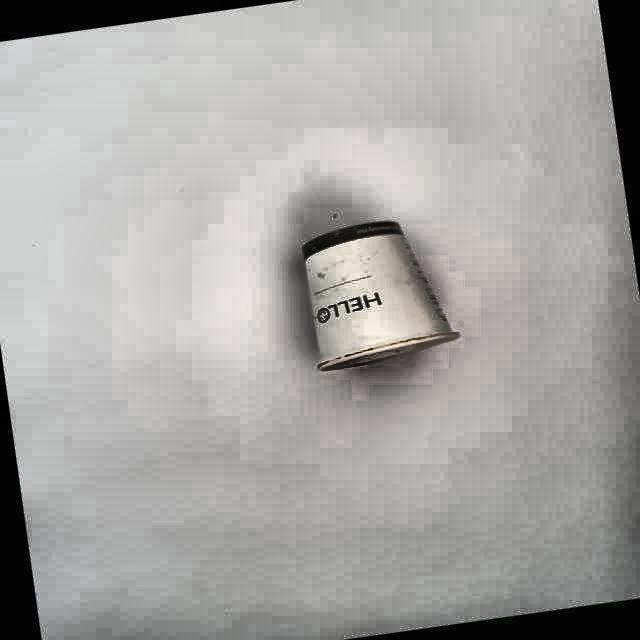cardboard: (302, 223, 460, 374)
